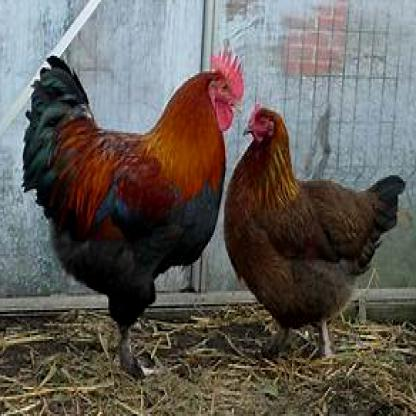chicken: (24, 48, 245, 326), (222, 104, 406, 352)
